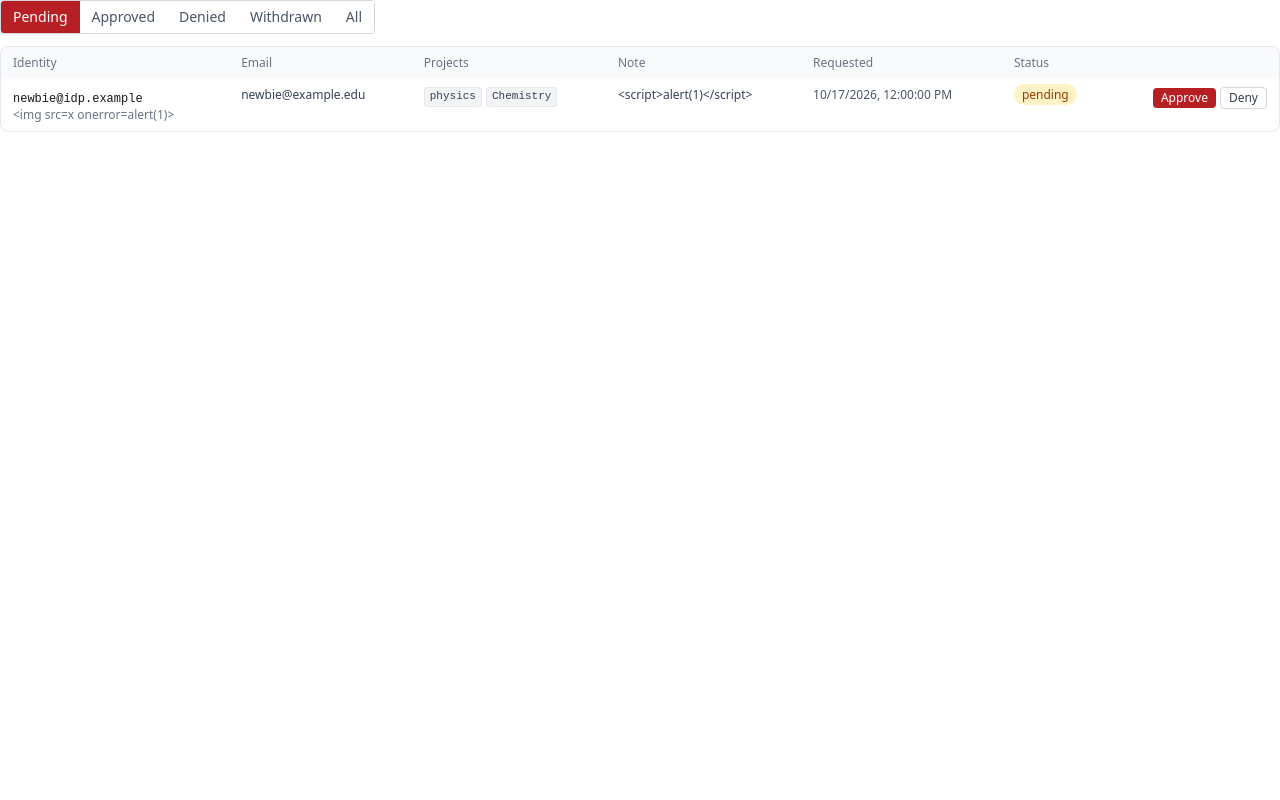
Requests › checks an approval as a dry run
Step 1. Click the button "Approve" → [1184, 98], box left=1153, top=88, right=1216, bottom=108
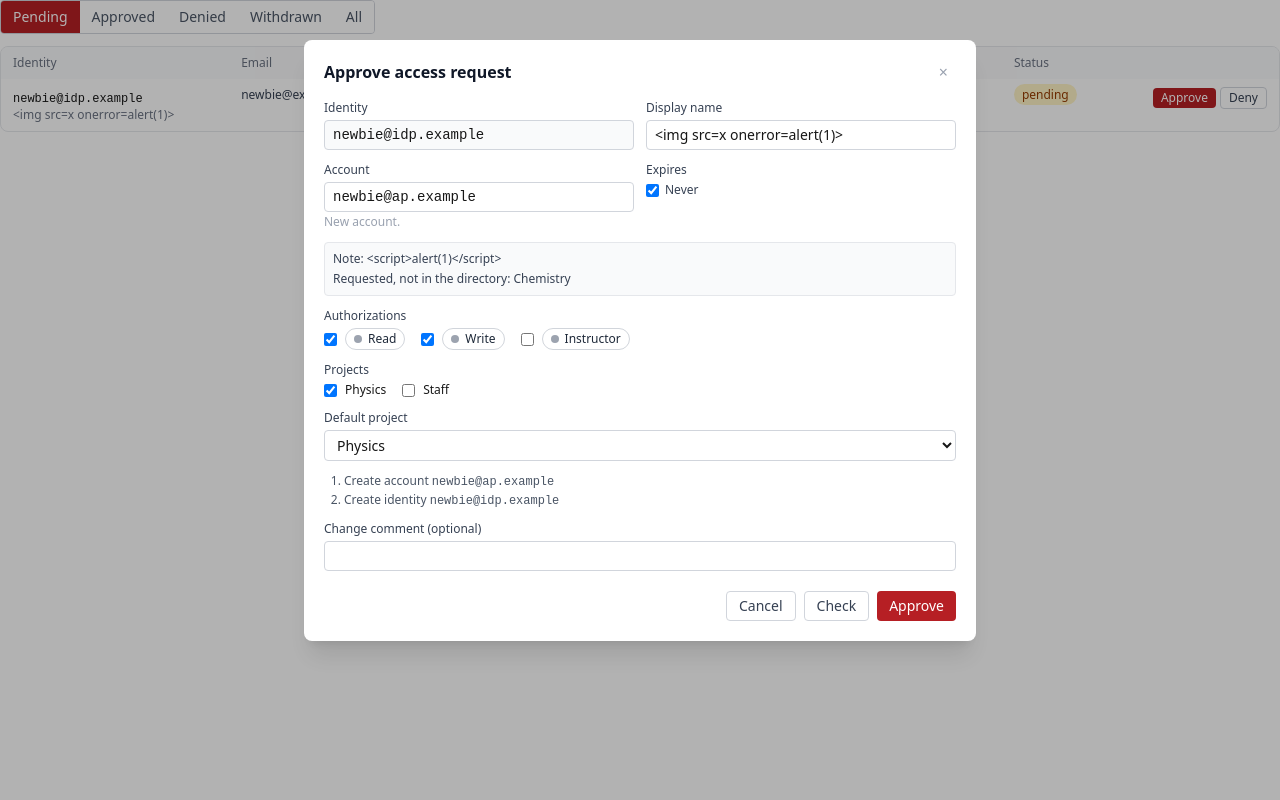
Step 2. Click the button "Check" → [836, 606], box left=804, top=591, right=869, bottom=621
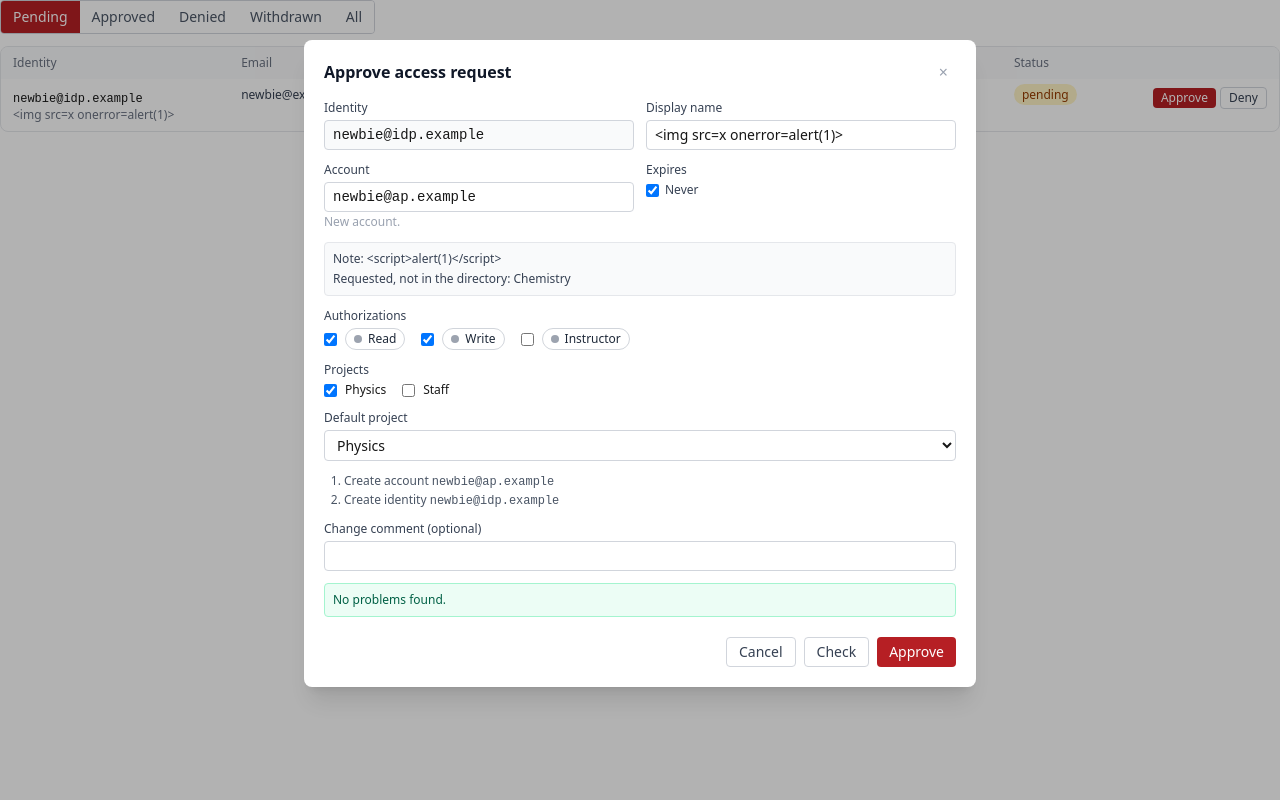
expect the text "No problems found." is shown: met, box left=324, top=583, right=956, bottom=617
